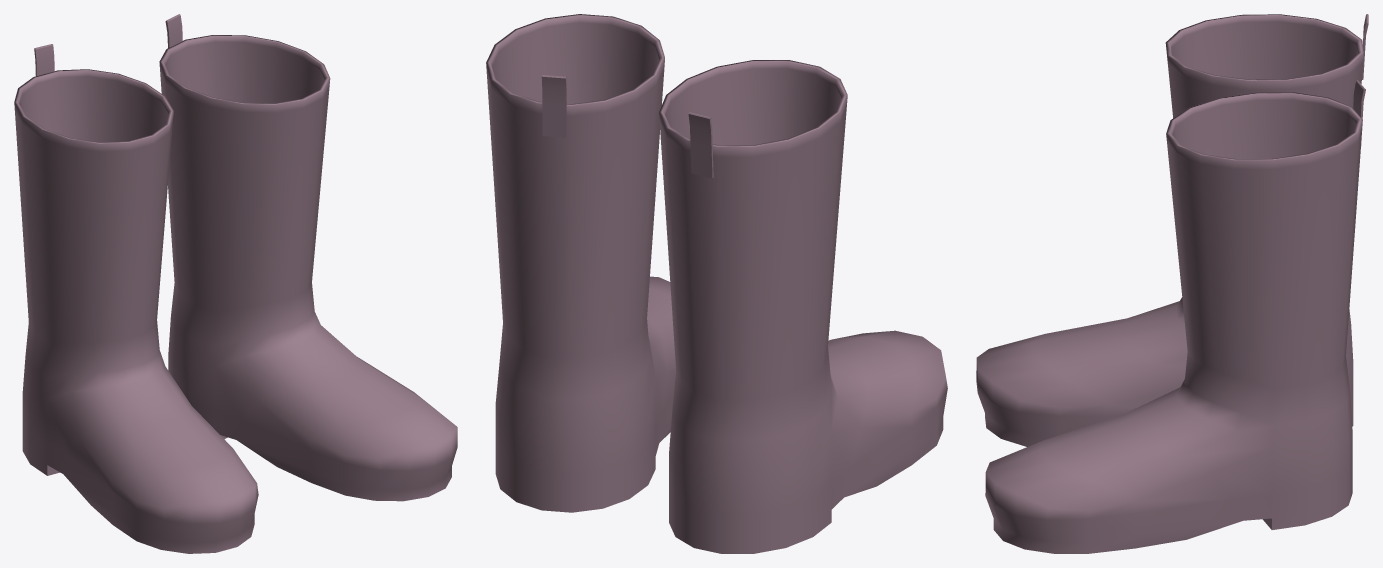
Rendered from SM_Room_Boot.fbx.
The picture shows the model from 3 angles, left to right: view 1: azimuth 30°, elevation 25°; view 2: azimuth 150°, elevation 25°; view 3: azimuth 270°, elevation 25°; orthographic projection. The views are drawn at different scales.
Visible parts, largest first — view 1: Boot; view 2: Boot; view 3: Boot.
Boxes of the visible parts, x1,y1,x2,y2 form: Boot: [14, 14, 457, 553]; Boot: [486, 14, 947, 553]; Boot: [976, 14, 1368, 553].
Size of the model in its own units: 0.4482 by 0.5005 by 0.4436.
